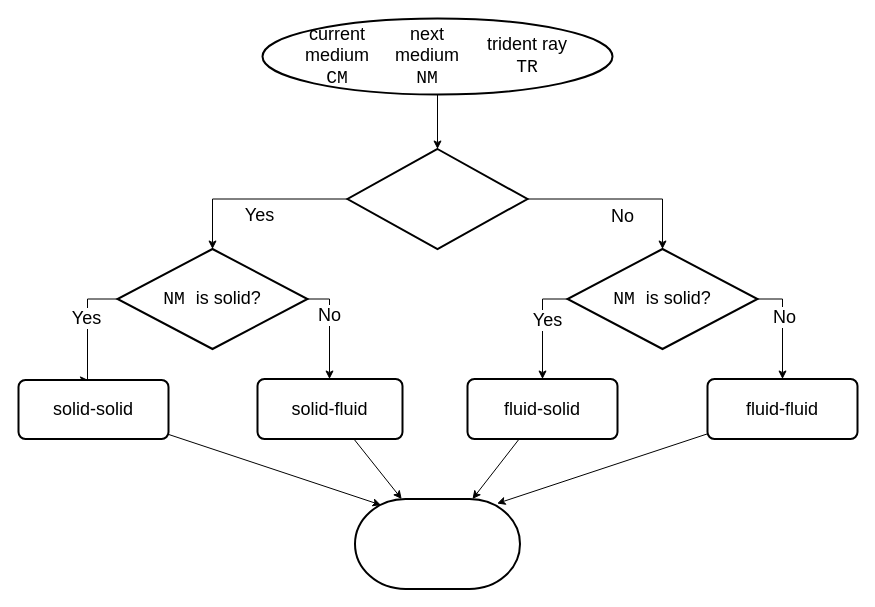
The diagram is 875 pixels wide and 607 high, and some of its shapes have lost their labels. The centre of each missing label's shape, as x and y in pixels:
"CM is solid?" belongs at point (437, 199).
"reflected and transmitted tridents" belongs at point (437, 544).
